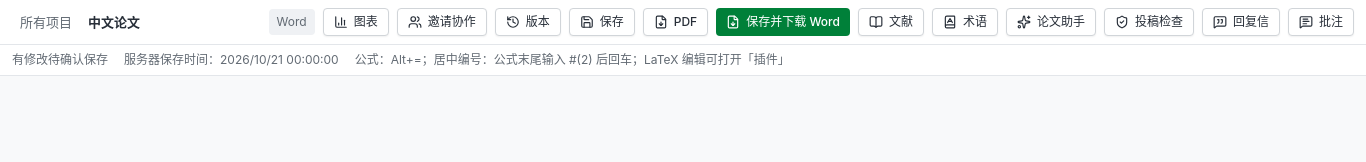
Test: Word 工作台 › 保存等待期间又有编辑时取消下载，避免下载被当成最新稿
The width and height of the screenshot is (1366, 162).
Click the button with test id "word-download" at (783, 22), box [716,8,850,36]
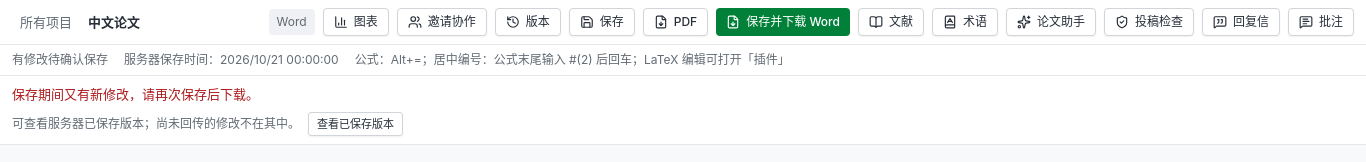
expect the text "保存期间又有新修改" is shown: met, box [12,86,259,102]
